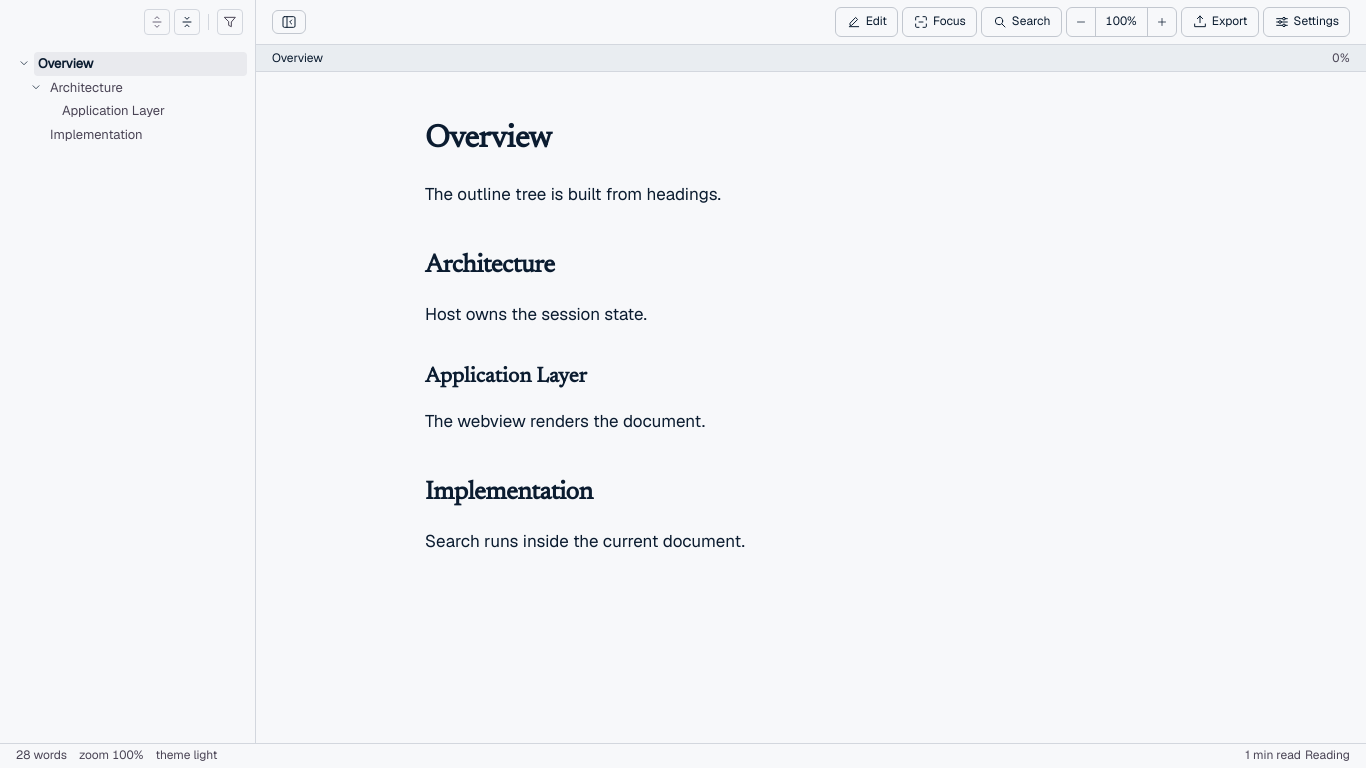
Test: 顶栏 / 弹层 / 状态条装配（M6） › 大纲「折叠全部 / 展开全部」由 App 持有状态：按下真的改树，再按下真的回得来
Click the button named "Collapse all".
click(187, 22)  # box [174,9,200,35]
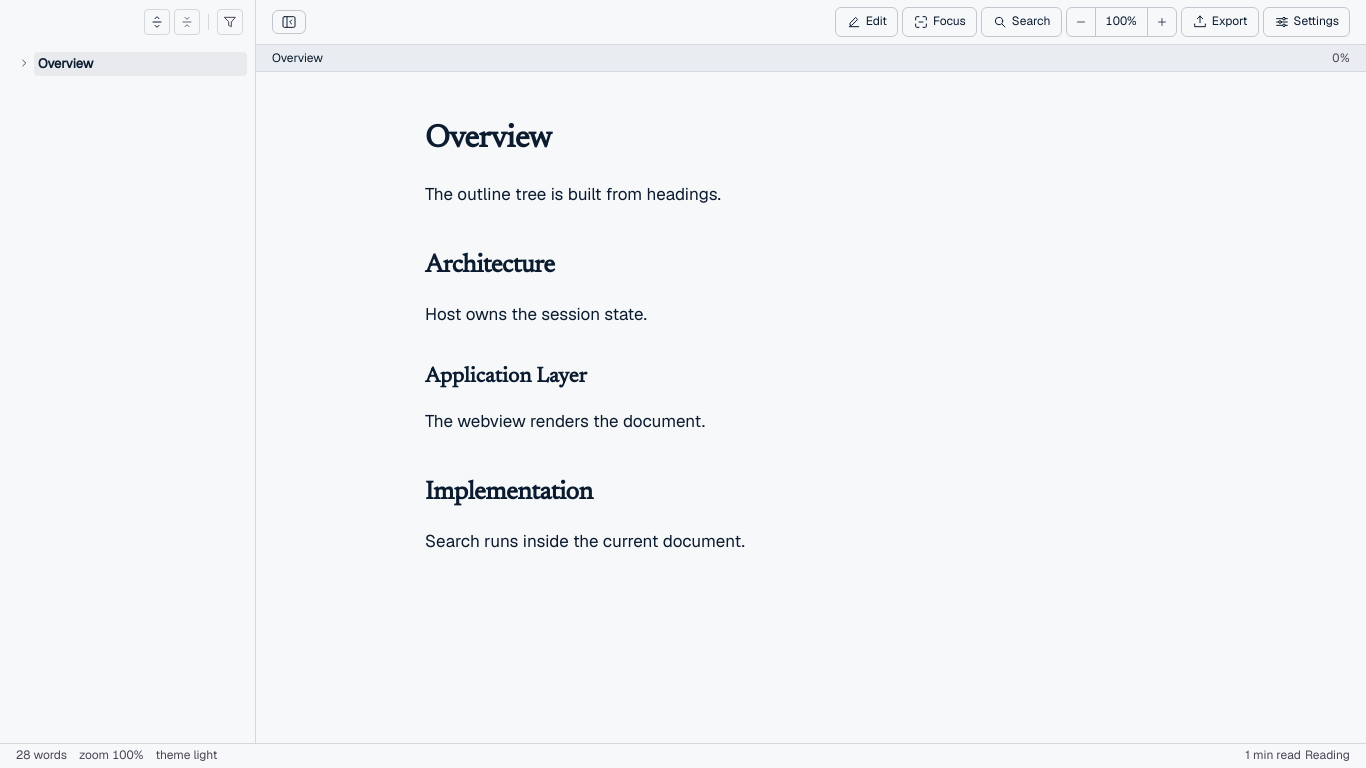
Click the button named "Expand all".
click(157, 22)  # box [144,9,170,35]
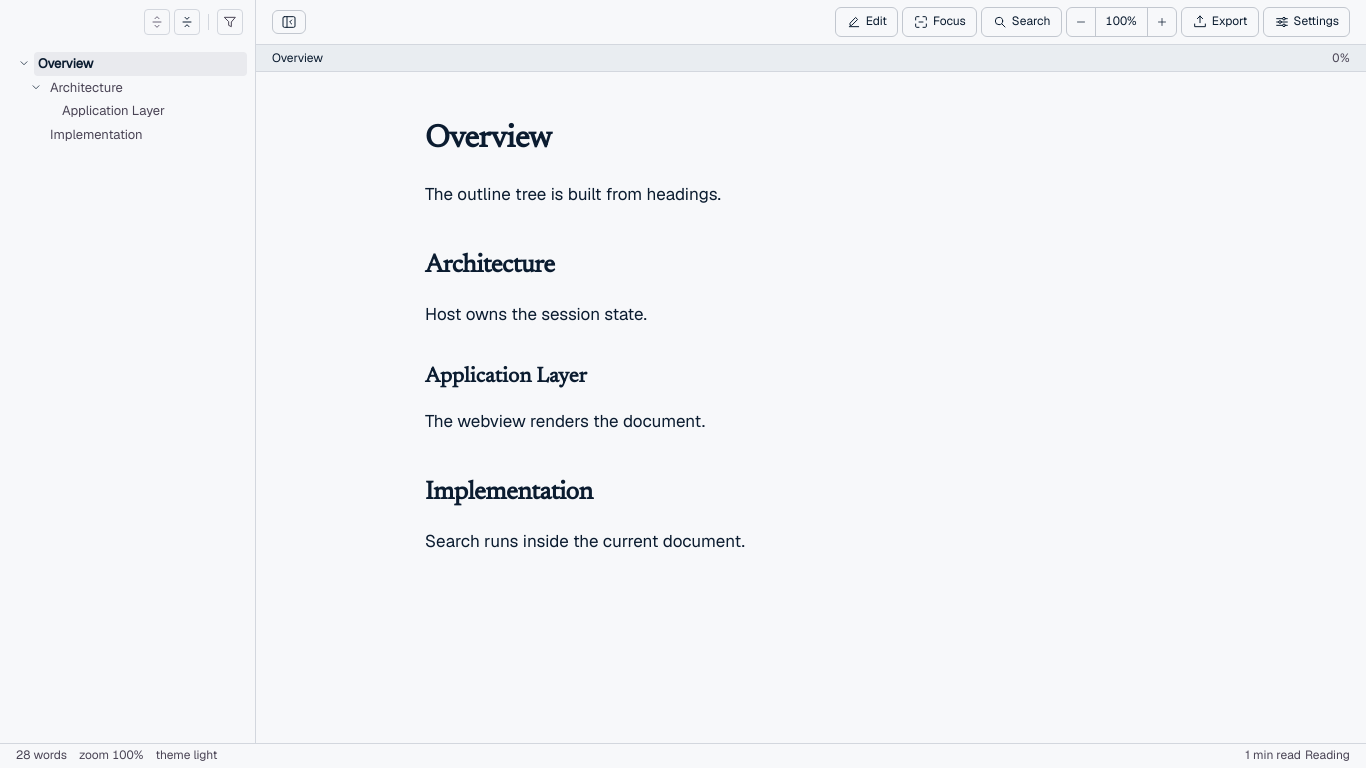
Expected: the number of links is 4, [34,52,247,76]; [50,78,123,96]; [62,102,165,119]; [50,126,143,142]
